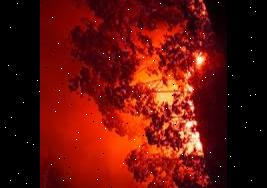fire: (142, 77, 206, 157), (181, 35, 214, 75), (178, 0, 210, 19)
